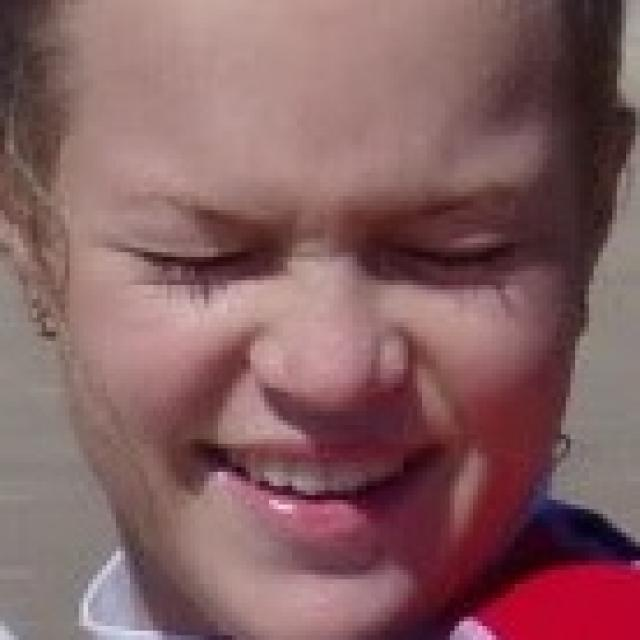close: (376, 158, 544, 293), (108, 173, 277, 293)
